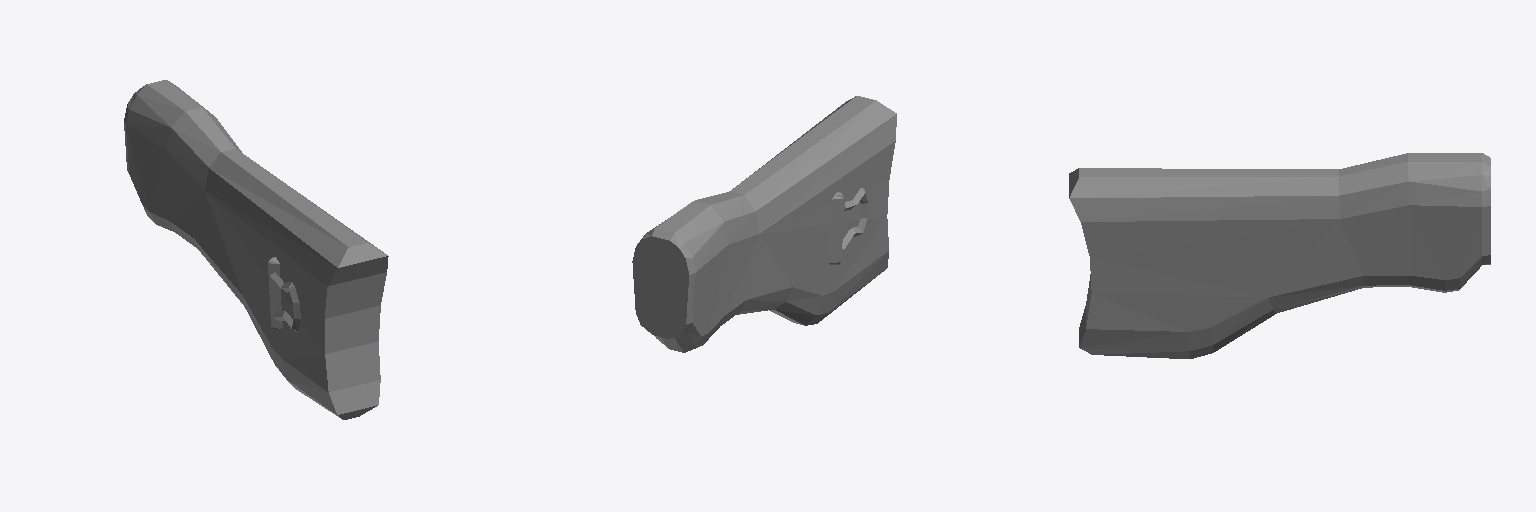
Rendered from stock5.obj.
The picture shows the model from 3 angles: view 1: azimuth 30°, elevation 25°; view 2: azimuth 150°, elevation 25°; view 3: azimuth 270°, elevation 25°; orthographic projection.
Parts seen in each view (by area): view 1: stock5; view 2: stock5; view 3: stock5.
Part boxes in pixels (left/top/right/bottom): stock5: left=124, top=80, right=388, bottom=419; stock5: left=632, top=96, right=896, bottom=352; stock5: left=1069, top=153, right=1490, bottom=358.
Size of the model in its own units: 4.97 by 14.54 by 27.93.